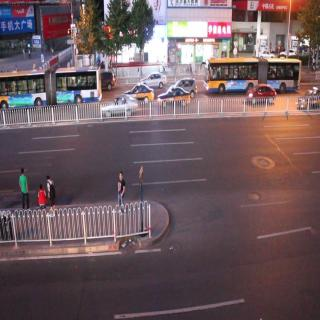BigCar: (0, 70, 102, 104), (205, 56, 301, 92)
Car: (158, 84, 192, 109), (104, 94, 138, 117), (246, 82, 276, 106), (139, 68, 167, 90), (298, 86, 319, 110)
